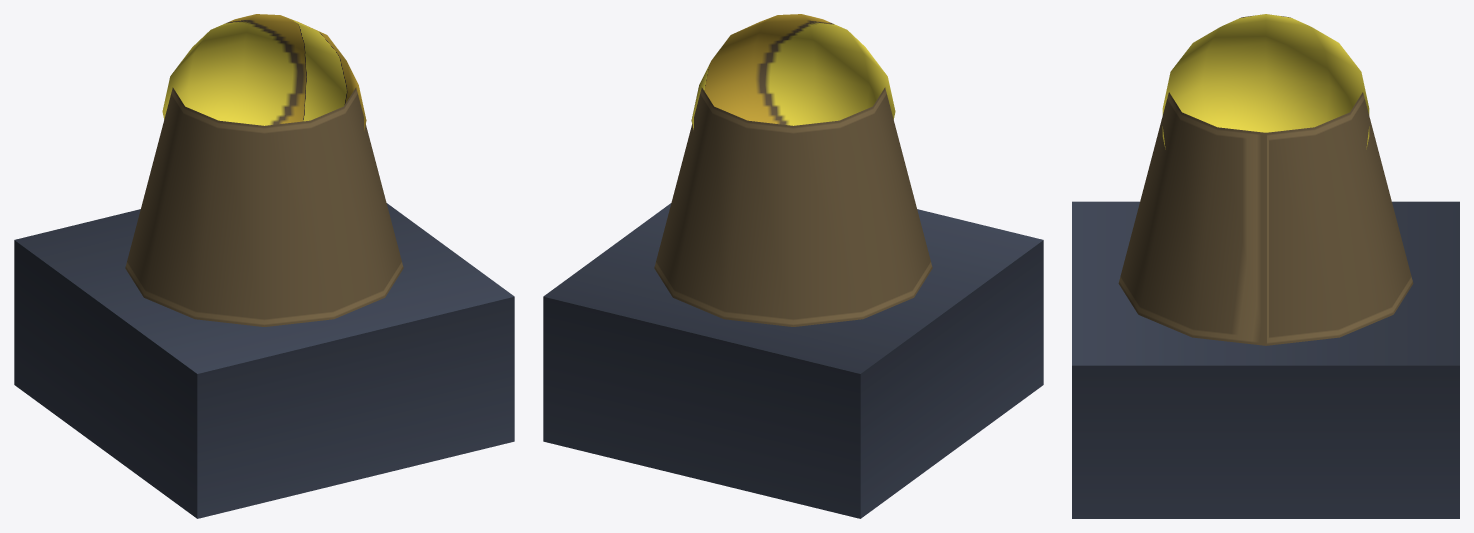
File: sundial_falsedawn.glb
3 renders of one model, left to right at view 1: azimuth 30°, elevation 25°; view 2: azimuth 150°, elevation 25°; view 3: azimuth 270°, elevation 25°, orthographic. The views are drawn at different scales.
Visible parts, largest first — view 1: sundial_falsedawn; view 2: sundial_falsedawn; view 3: sundial_falsedawn.
Boxes of the visible parts, box(x1,y1,x2,y2) form: sundial_falsedawn: box(14, 14, 514, 518); sundial_falsedawn: box(543, 14, 1043, 518); sundial_falsedawn: box(1072, 14, 1459, 518).
Bounding box in the file's own units: 1.1 × 1.29 × 1.1.
Materials: 1 (1 with a texture image).
